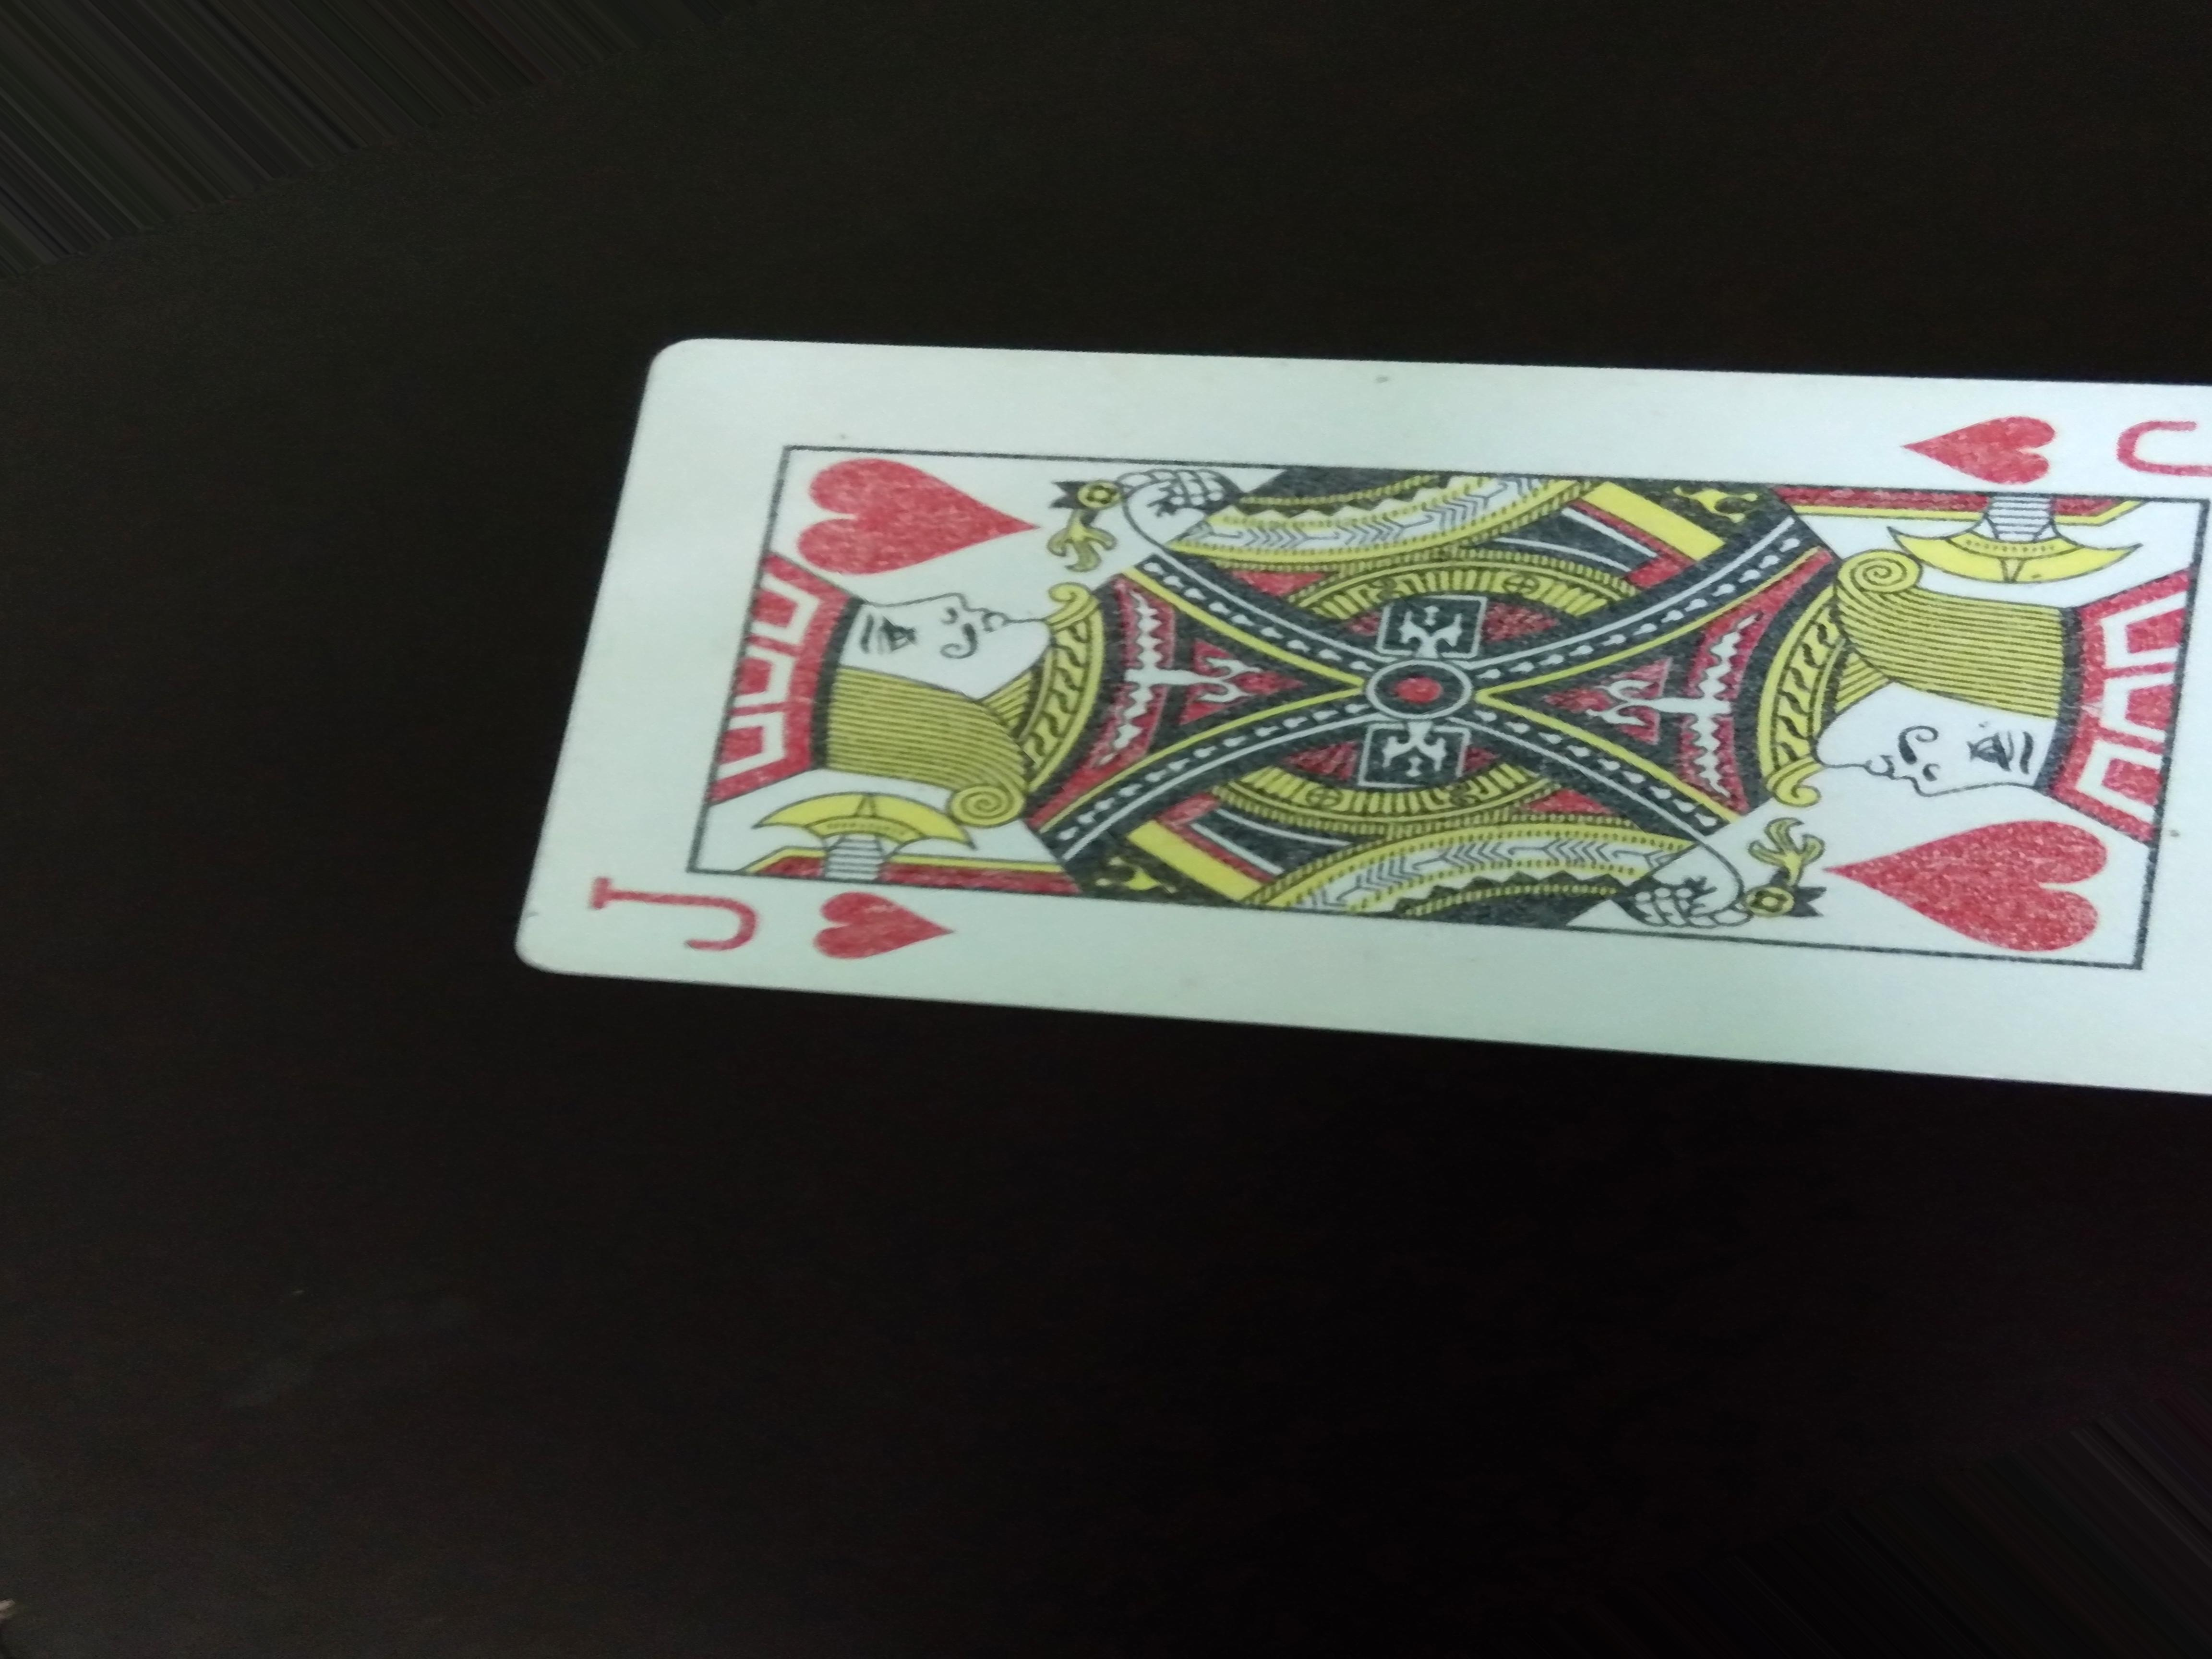JH: (559, 863, 941, 983)
